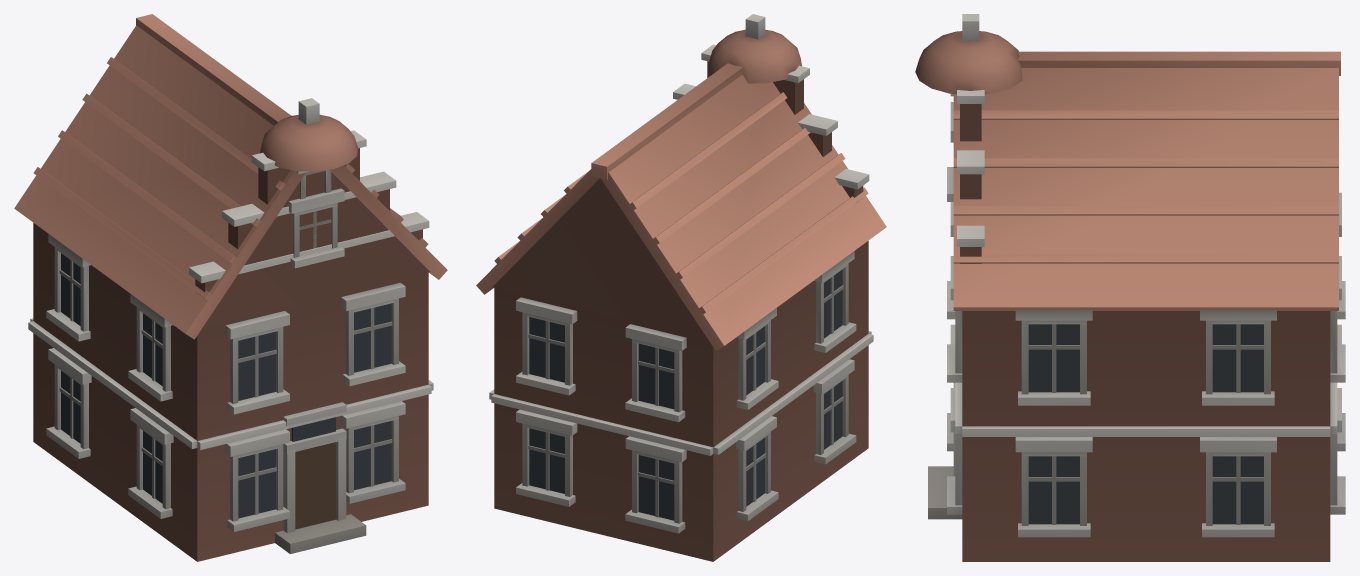
The model's file is house_early_1.glb.
The picture shows the model from 3 angles, left to right: view 1: azimuth 30°, elevation 25°; view 2: azimuth 150°, elevation 25°; view 3: azimuth 270°, elevation 25°; orthographic projection. The views are drawn at different scales.
Visible parts, largest first — view 1: Body_Detail, Body_Roof; view 2: Body_Detail, Body_Roof; view 3: Body_Detail, Body_Roof.
Part boxes in pixels (bbox=[...]): Body_Detail: bbox=[28, 98, 433, 561]; Body_Roof: bbox=[14, 14, 447, 339]; Body_Detail: bbox=[489, 14, 873, 561]; Body_Roof: bbox=[476, 63, 886, 350]; Body_Detail: bbox=[915, 14, 1345, 561]; Body_Roof: bbox=[953, 51, 1340, 310].
Size of the model in its own units: 0.7938 by 1.25 by 1.01.
